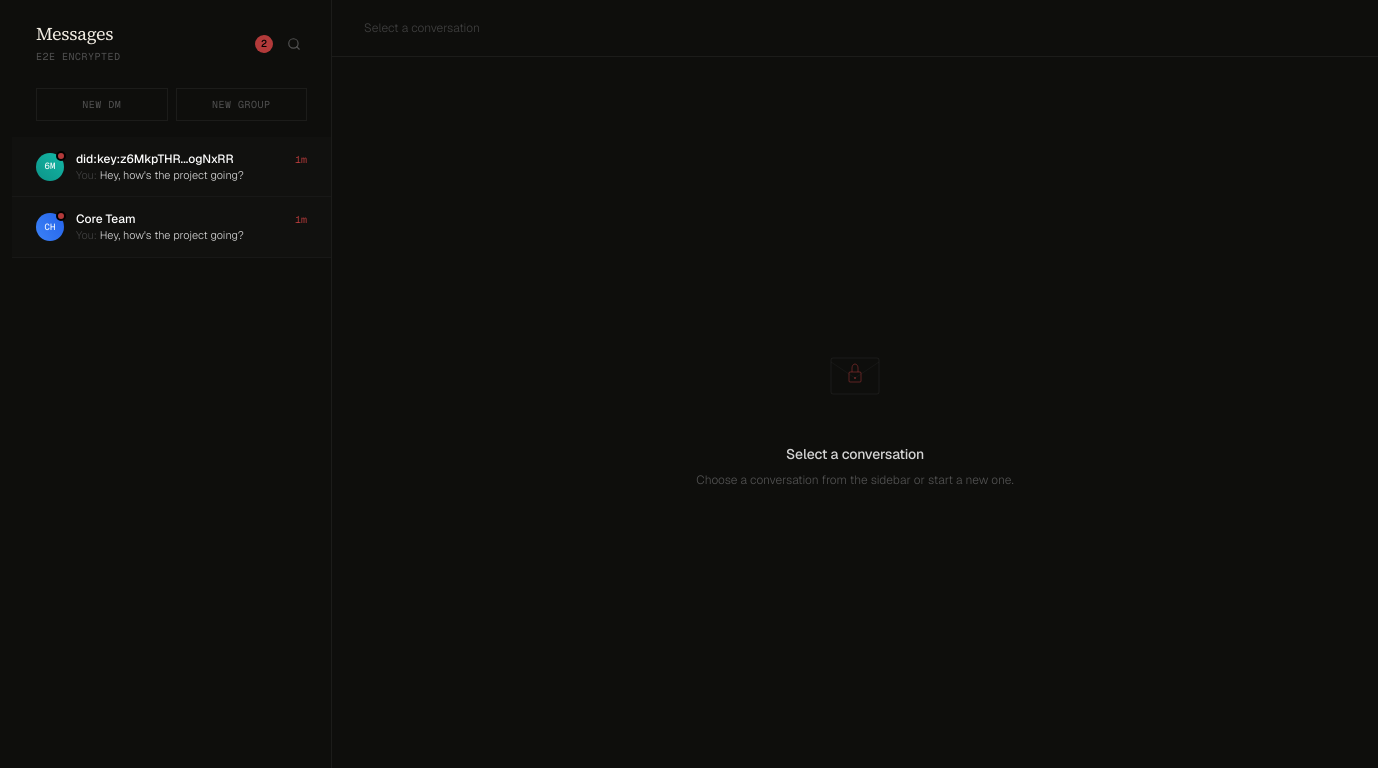
Messages page › Create channel › opens DM creation form on New DM click
Expected: the heading "Messages" is shown, [36,24,120,45]
Click the button "New DM" at (102, 104), box [36,88,168,121]
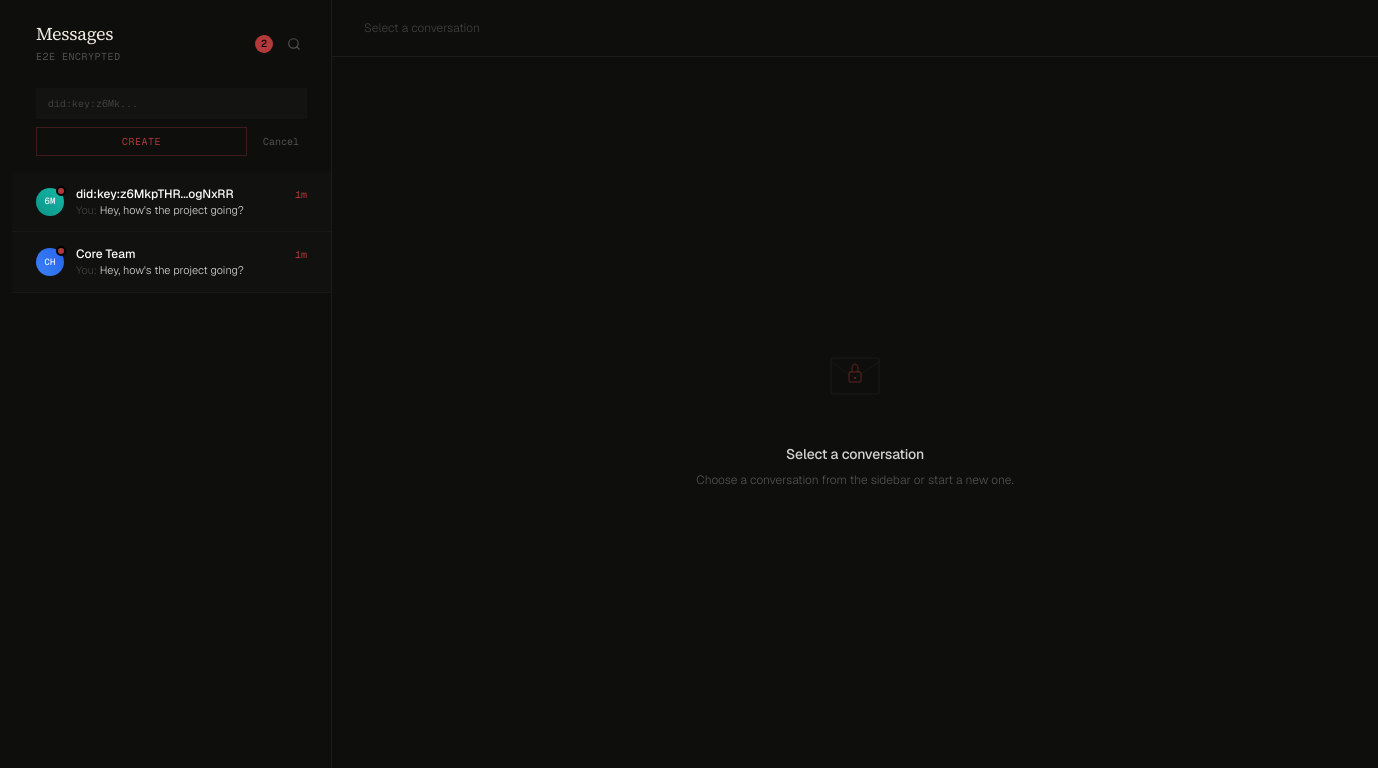
Expected: the field with placeholder "did:key:z6Mk..." is shown, [36,88,307,119]
